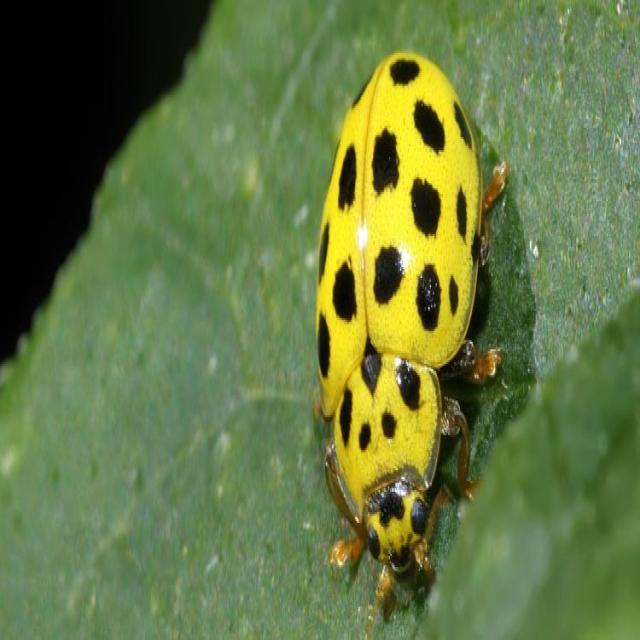ladybug: (316, 53, 507, 607)
